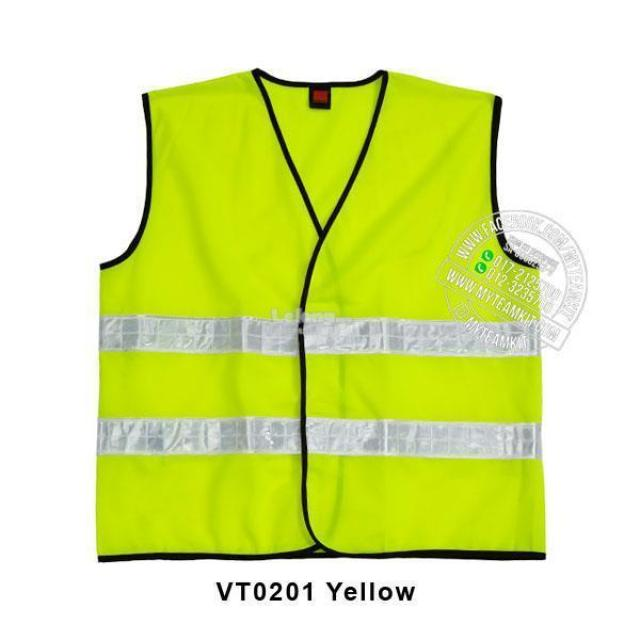Vest: (92, 68, 544, 564)
